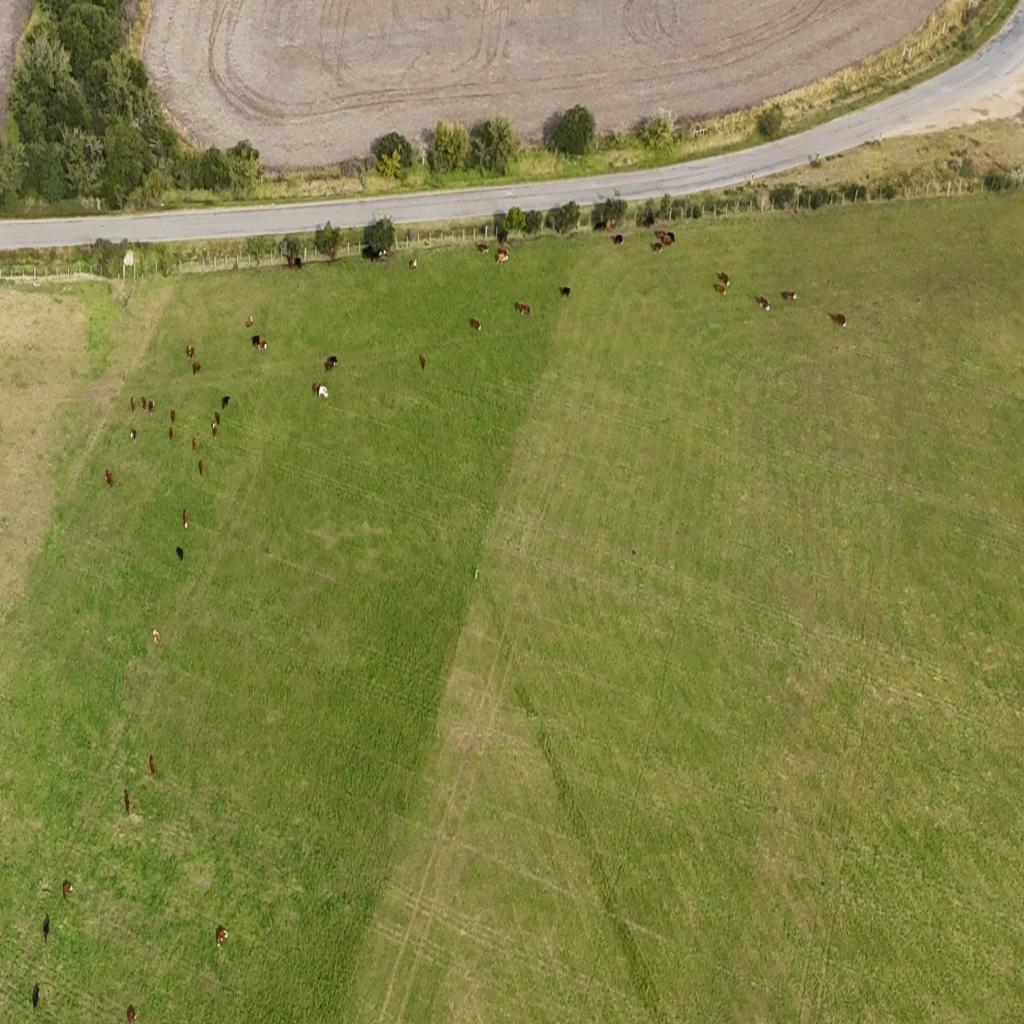cow: (828, 312, 847, 328), (43, 911, 51, 943), (32, 984, 41, 1012), (216, 926, 227, 948), (62, 879, 73, 901), (514, 301, 530, 316), (755, 296, 770, 312), (126, 1004, 138, 1024), (324, 355, 338, 372), (496, 249, 508, 267), (258, 340, 272, 354), (604, 218, 616, 234), (781, 290, 797, 301), (721, 270, 731, 287), (715, 282, 726, 297), (105, 469, 114, 487), (186, 344, 196, 360), (498, 228, 508, 244), (470, 318, 482, 331), (124, 790, 130, 816), (594, 220, 605, 234), (366, 250, 377, 264), (644, 213, 654, 228), (477, 242, 489, 254), (652, 242, 664, 254), (318, 387, 329, 400), (376, 249, 388, 260), (559, 286, 570, 298), (149, 754, 155, 776), (419, 354, 427, 370), (176, 546, 184, 562), (635, 214, 644, 228), (662, 236, 674, 246), (613, 234, 623, 246), (222, 395, 230, 410), (251, 335, 260, 348), (147, 397, 154, 413), (286, 255, 294, 269), (312, 382, 320, 396), (192, 436, 199, 452), (245, 315, 253, 328), (131, 429, 138, 443), (193, 362, 201, 374), (409, 258, 417, 270), (130, 396, 136, 412), (212, 420, 218, 436), (141, 396, 147, 412), (198, 459, 204, 475), (214, 410, 220, 426), (295, 257, 302, 270), (667, 232, 676, 242), (330, 248, 337, 260), (154, 631, 160, 645), (184, 509, 188, 529), (170, 408, 175, 424), (169, 426, 174, 440)
